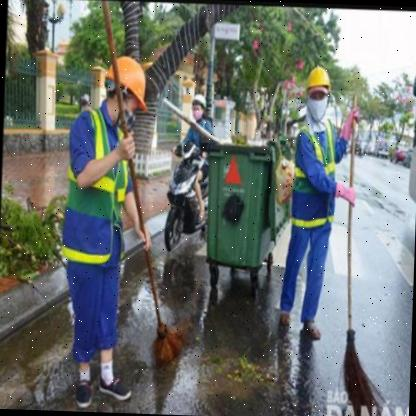bota: (96, 376, 131, 400), (74, 370, 94, 408)
capacete: (102, 57, 148, 122), (304, 66, 332, 121)
